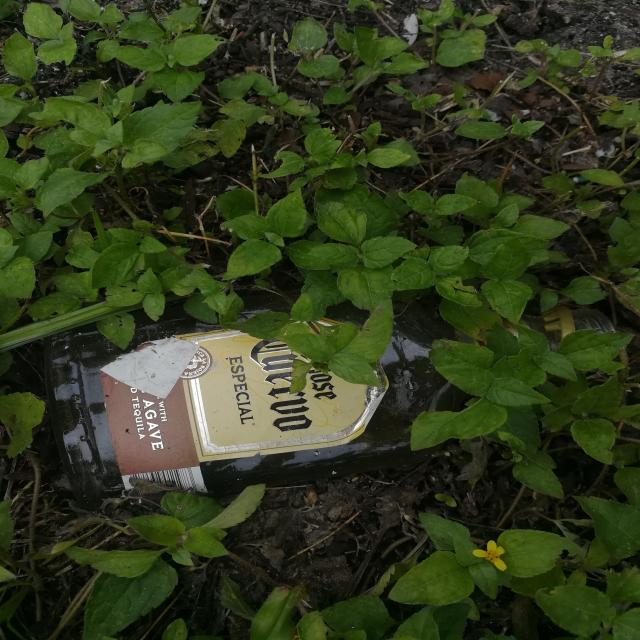litter: (44, 308, 473, 515)
